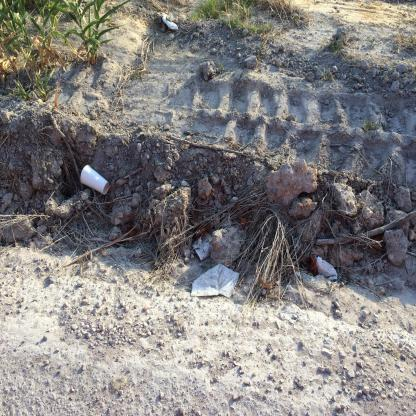karton: (81, 166, 111, 196)
